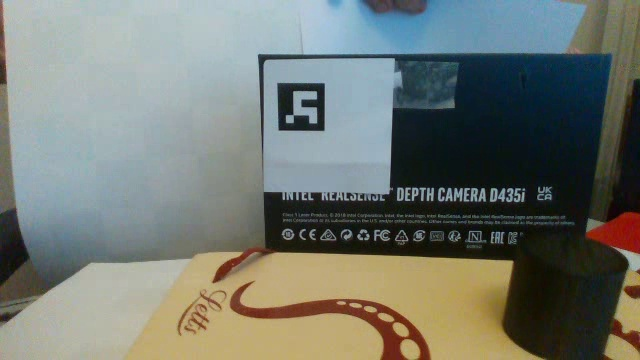cylindre: (498, 221, 633, 360)
